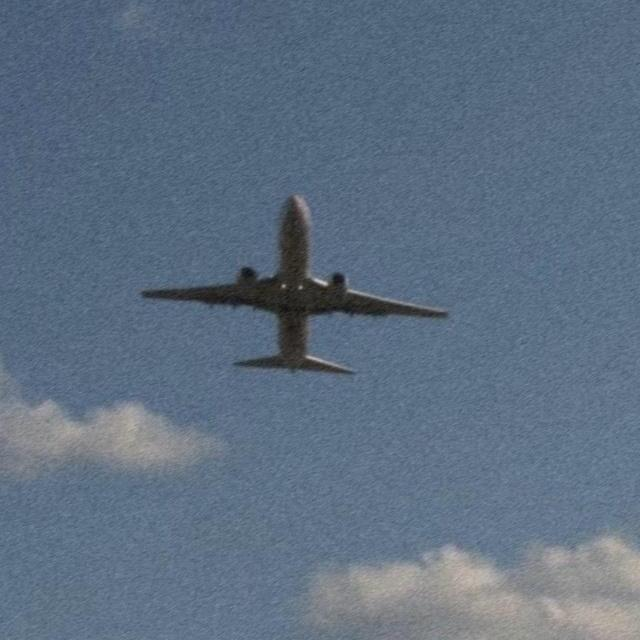airplane: (137, 191, 456, 379)
